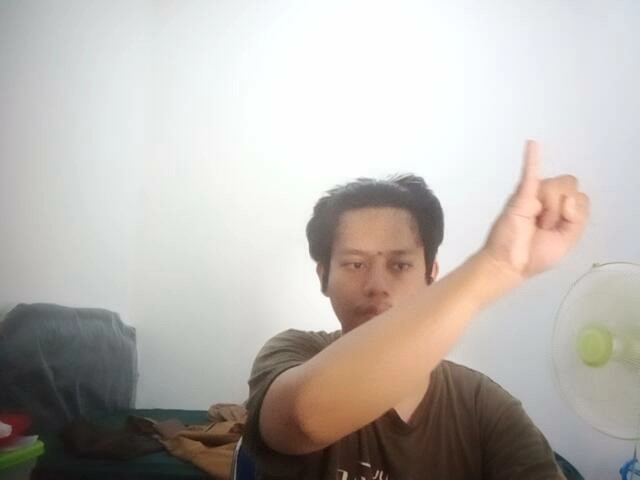I: (486, 124, 603, 285)
